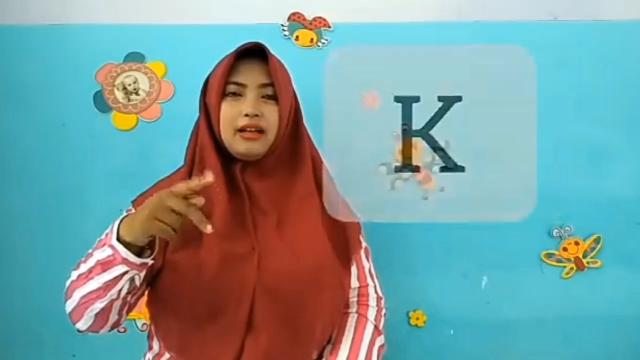K: (128, 172, 228, 252)
